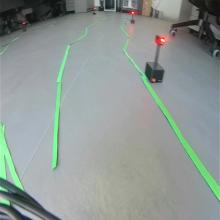red: (155, 33, 166, 46)
